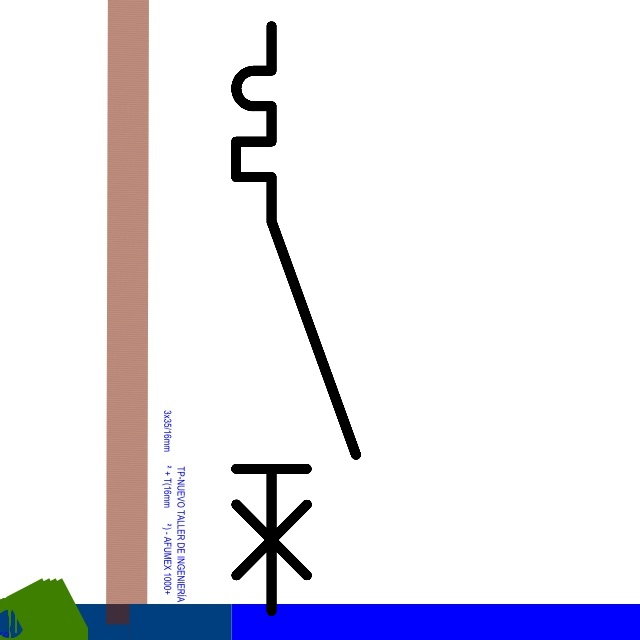interruptor_termomagnetico: (221, 11, 371, 626)
